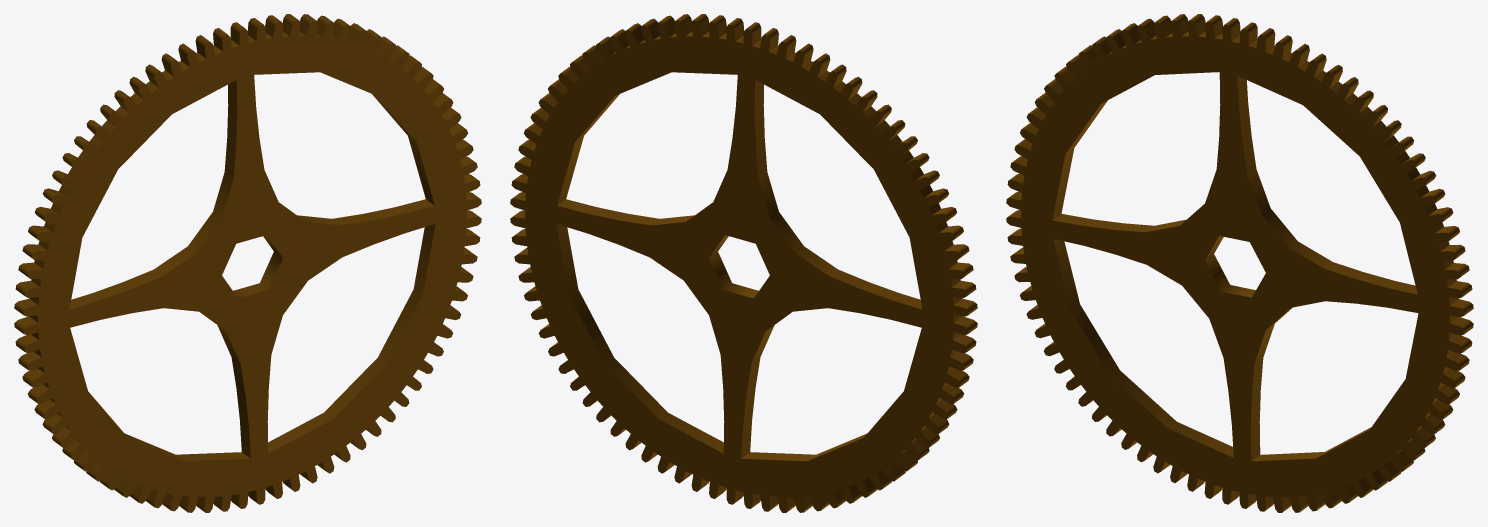
The model's file is Roue dente_Petite moyenne.obj.
3 renders of one model, left to right at view 1: azimuth 30°, elevation 25°; view 2: azimuth 150°, elevation 25°; view 3: azimuth 330°, elevation 25°, orthographic.
Visible parts, largest first — view 1: Face_2, Face_326, Face_332, Face_333, Face_331, Face_327, Face_337, Face_339, Face_338, Face_330; view 2: Face_1, Face_326, Face_332, Face_333, Face_331, Face_327, Face_337, Face_339, Face_338, Face_330; view 3: Face_2, Face_338, Face_328, Face_329, Face_323, Face_327, Face_334, Face_333, Face_339, Face_326.
Boxes of the visible parts, bbox=[...] form: Face_2: bbox=[23, 20, 481, 512]; Face_326: bbox=[268, 224, 435, 453]; Face_332: bbox=[154, 172, 233, 275]; Face_333: bbox=[69, 269, 162, 309]; Face_331: bbox=[224, 80, 237, 178]; Face_327: bbox=[332, 199, 434, 225]; Face_337: bbox=[231, 357, 250, 458]; Face_339: bbox=[233, 235, 282, 298]; Face_338: bbox=[124, 433, 249, 461]; Face_330: bbox=[372, 94, 434, 205]; Face_1: bbox=[510, 20, 968, 512]; Face_326: bbox=[556, 224, 723, 453]; Face_332: bbox=[758, 172, 837, 275]; Face_333: bbox=[829, 269, 922, 309]; Face_331: bbox=[754, 80, 767, 178]; Face_327: bbox=[557, 199, 659, 225]; Face_337: bbox=[741, 357, 760, 458]; Face_339: bbox=[709, 235, 758, 298]; Face_338: bbox=[742, 433, 867, 461]; Face_330: bbox=[557, 94, 619, 205]; Face_2: bbox=[1006, 20, 1464, 512]; Face_338: bbox=[1053, 239, 1233, 457]; Face_328: bbox=[1247, 169, 1332, 268]; Face_329: bbox=[1237, 75, 1256, 175]; Face_323: bbox=[1250, 358, 1263, 460]; Face_327: bbox=[1324, 262, 1417, 294]; Face_334: bbox=[1052, 100, 1107, 219]; Face_333: bbox=[1053, 213, 1154, 232]; Face_339: bbox=[1205, 236, 1255, 297]; Face_326: bbox=[1251, 427, 1371, 461].
Size of the model in its own units: 0.0526 by 0.0526 by 0.0018.
